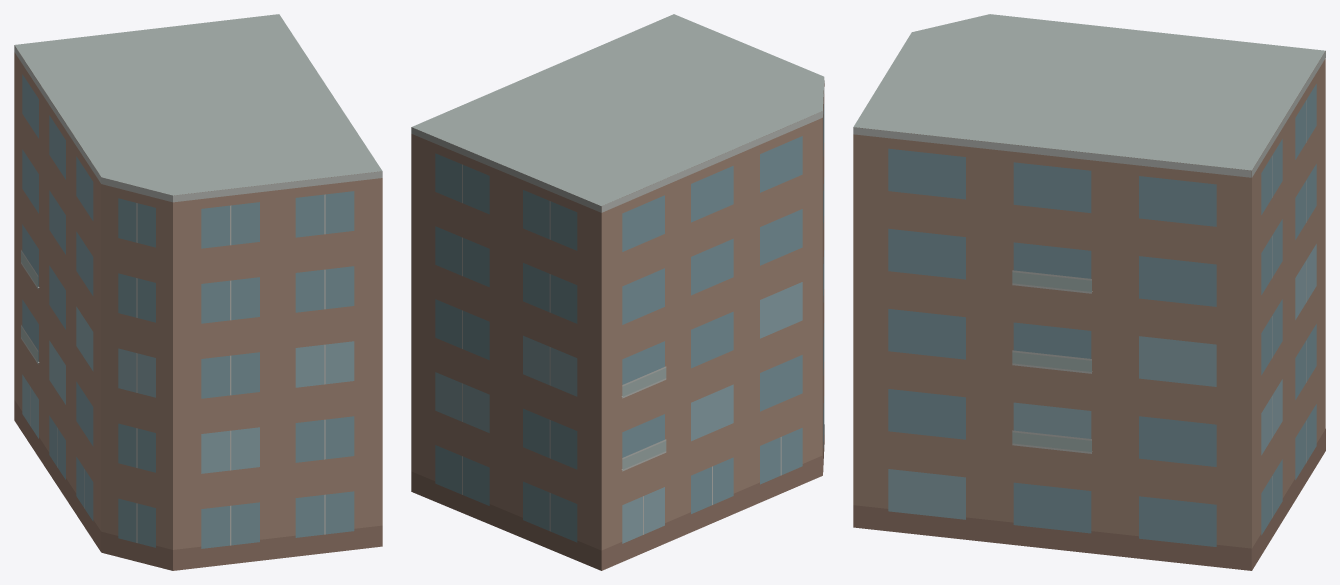
The model's file is survey-upis-32879689.glb.
3 views of the same model, side by side, from view 1: azimuth 30°, elevation 25°; view 2: azimuth 150°, elevation 25°; view 3: azimuth 270°, elevation 25° (orthographic). The views are drawn at different scales.
Visible parts, largest first — view 1: survey-upis-32879689.tmp; view 2: survey-upis-32879689.tmp; view 3: survey-upis-32879689.tmp.
Part boxes in pixels (x1,y1,x2,y2): survey-upis-32879689.tmp: [14, 14, 382, 570]; survey-upis-32879689.tmp: [411, 14, 824, 570]; survey-upis-32879689.tmp: [853, 14, 1325, 570].
Bounding box in the file's own units: 11.24 × 13.4 × 14.34.
